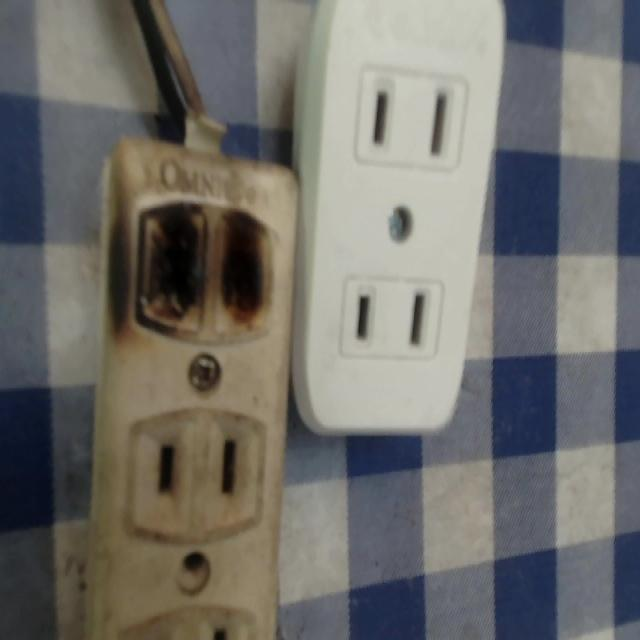-: (109, 184, 289, 337)
